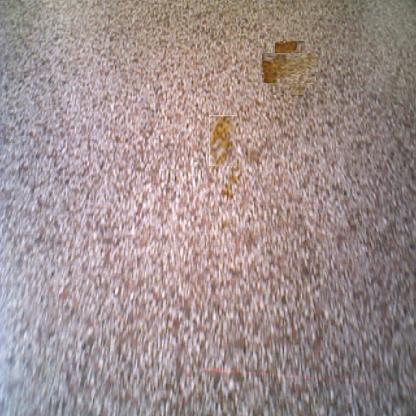liquid: (268, 46, 310, 90), (209, 115, 236, 166), (220, 172, 238, 200)
